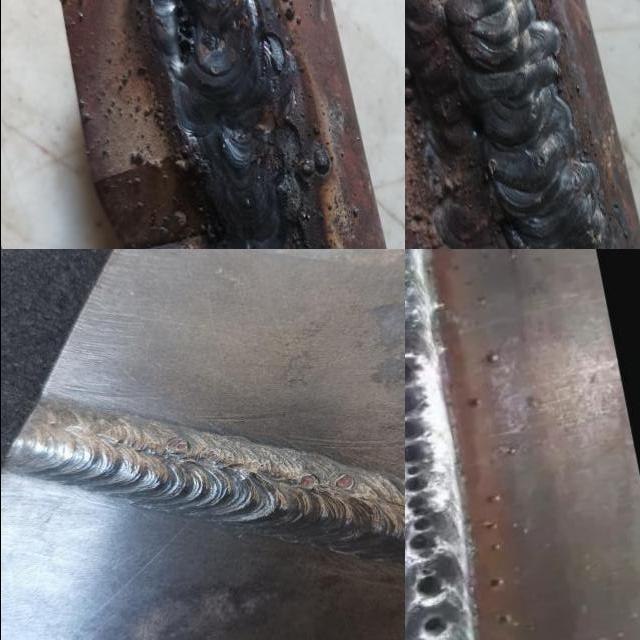defect: (404, 359, 439, 564), (171, 0, 195, 71), (406, 571, 447, 601), (416, 615, 448, 639), (330, 471, 357, 493), (294, 471, 318, 491), (199, 448, 223, 465), (164, 436, 188, 453), (530, 153, 548, 172), (252, 458, 272, 472)
